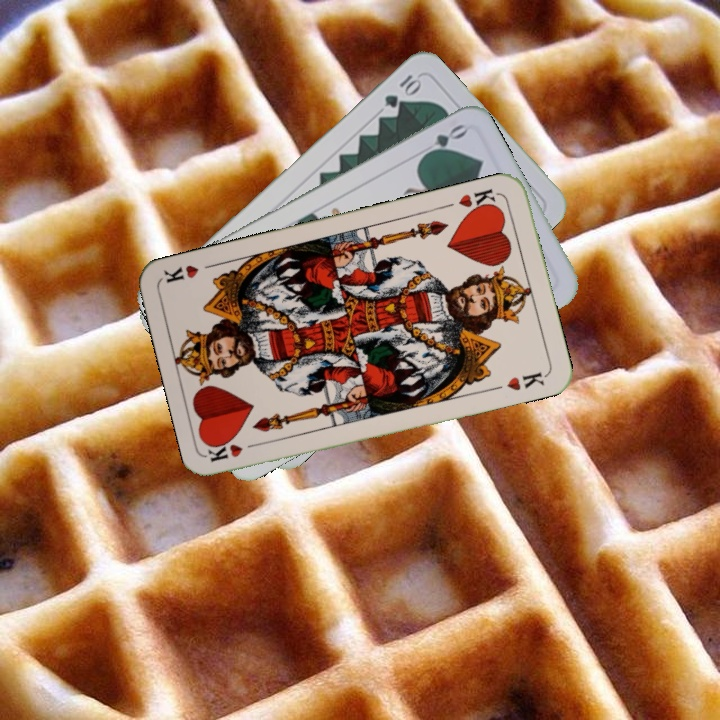G10: (380, 70, 424, 111)
GO: (414, 120, 470, 162)
HK: (205, 437, 265, 465), (454, 185, 500, 216)
